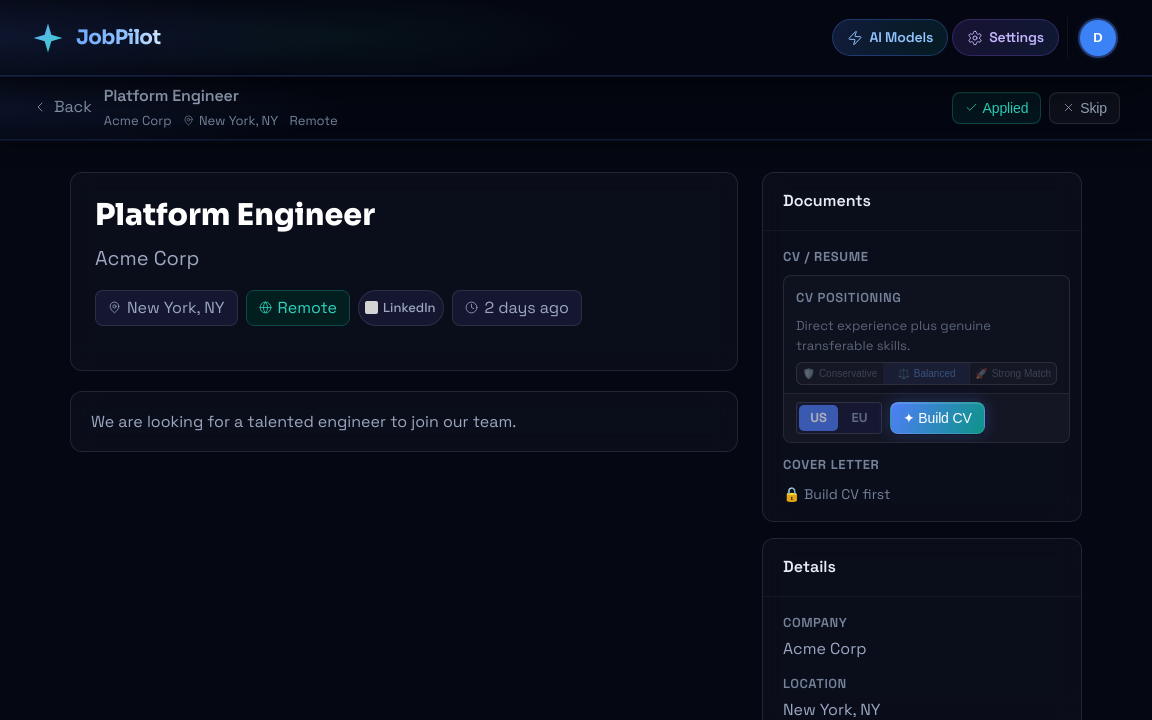
Test: Build failure handling › surfaces an error and offers retry when the build POST fails
Expected: the heading "Platform Engineer" is shown, [95, 196, 375, 234]
Click the button "✦ Build CV": (937, 418) [890, 402, 985, 434]
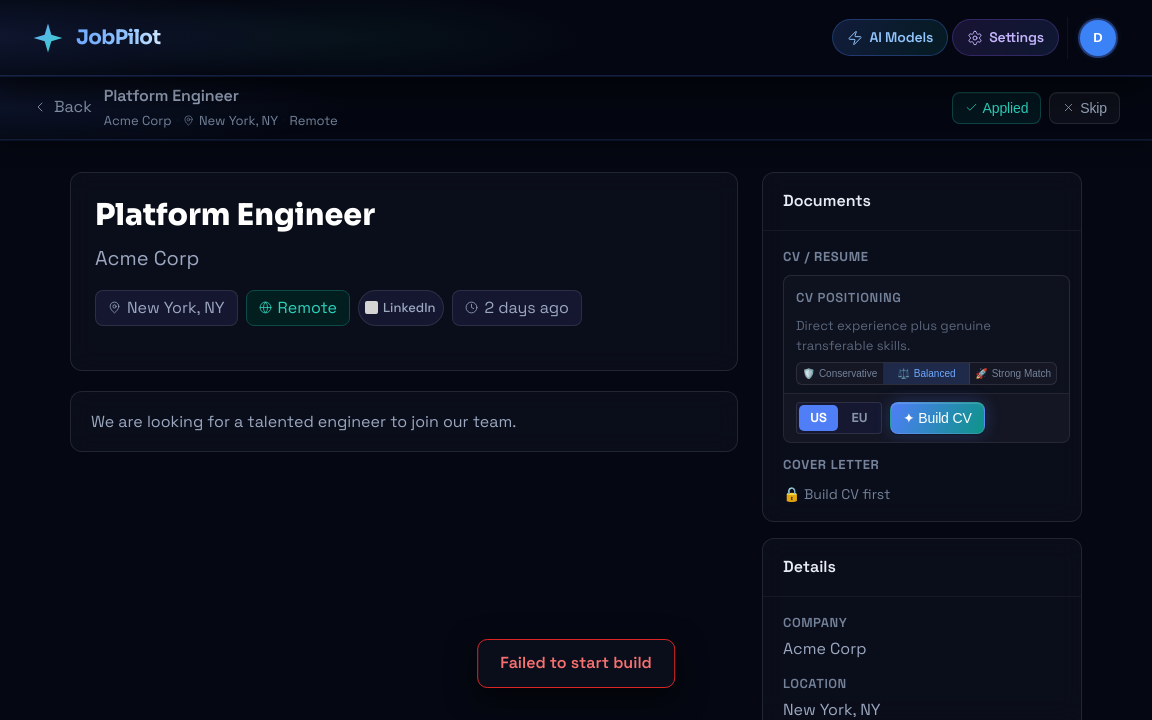
Expected: the text "Failed to start build" is shown, [477, 639, 675, 688]
